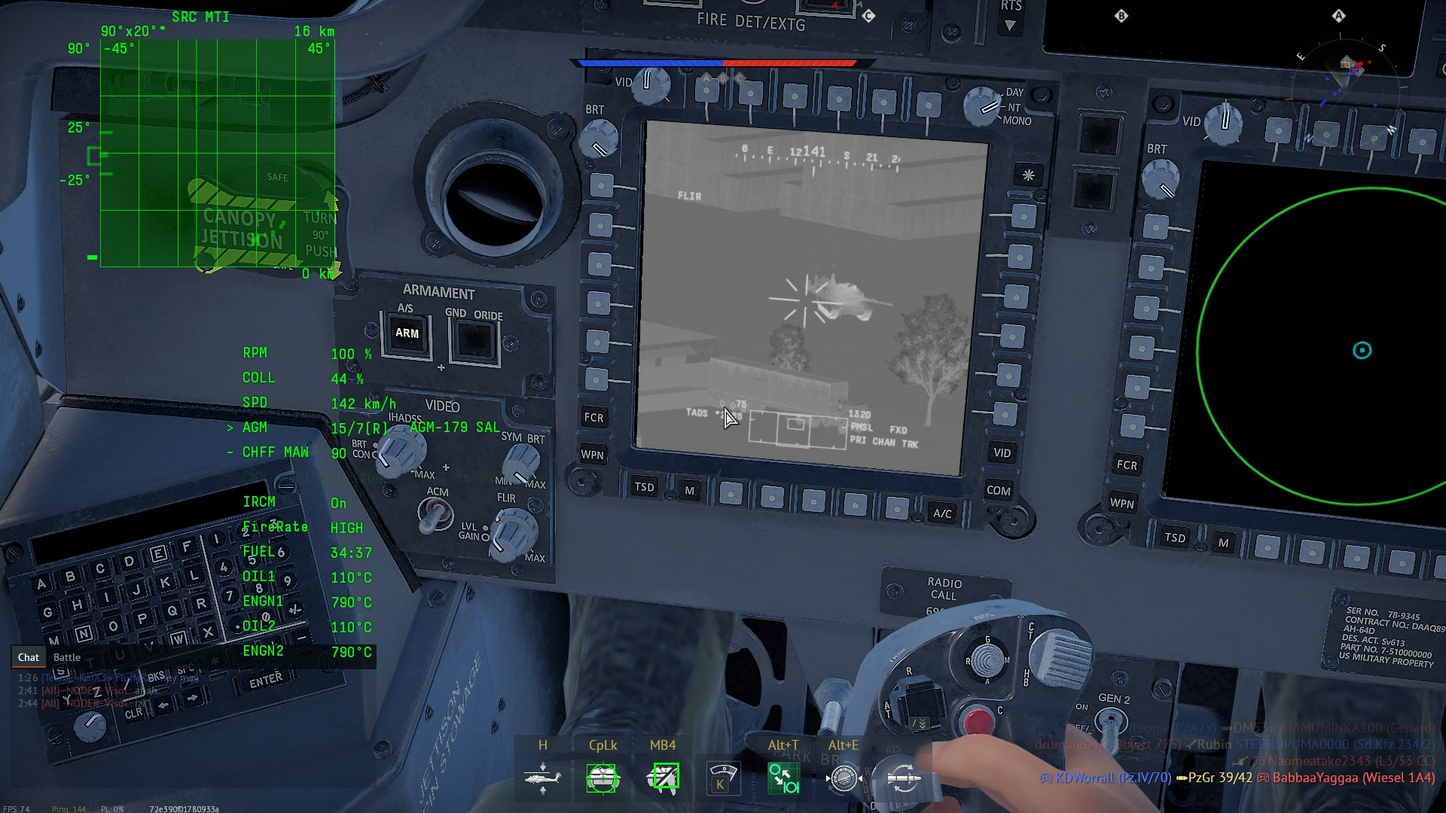abrams: (806, 276, 895, 321)
